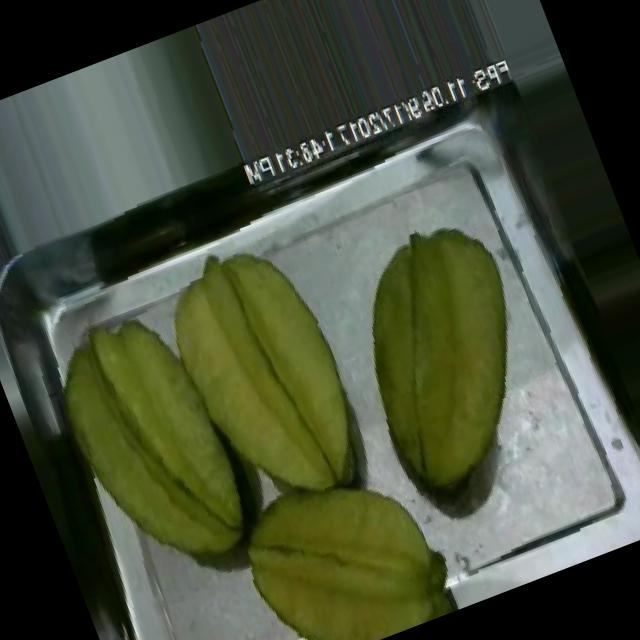fruit: (132, 219, 402, 552), (312, 202, 578, 517), (30, 287, 282, 604), (212, 441, 474, 640)
